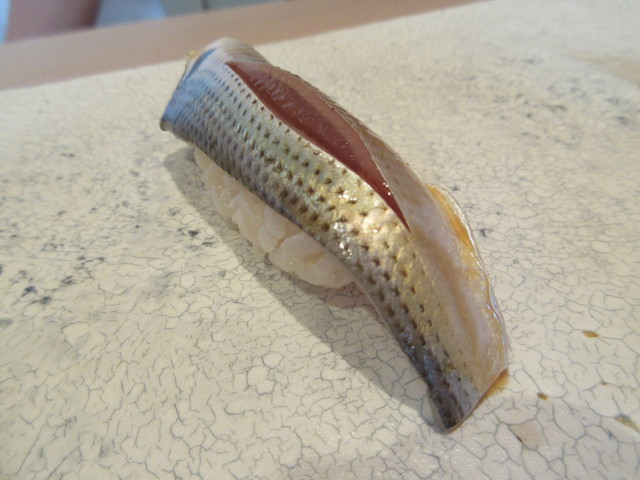spotted-shad: (152, 37, 526, 437)
